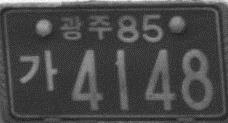1: (114, 48, 130, 113)
4: (69, 48, 106, 111), (143, 46, 176, 110)
5: (140, 12, 163, 43)
8: (178, 49, 214, 112), (116, 14, 139, 45)
가: (20, 50, 58, 93)
광주_O: (58, 13, 112, 42)
